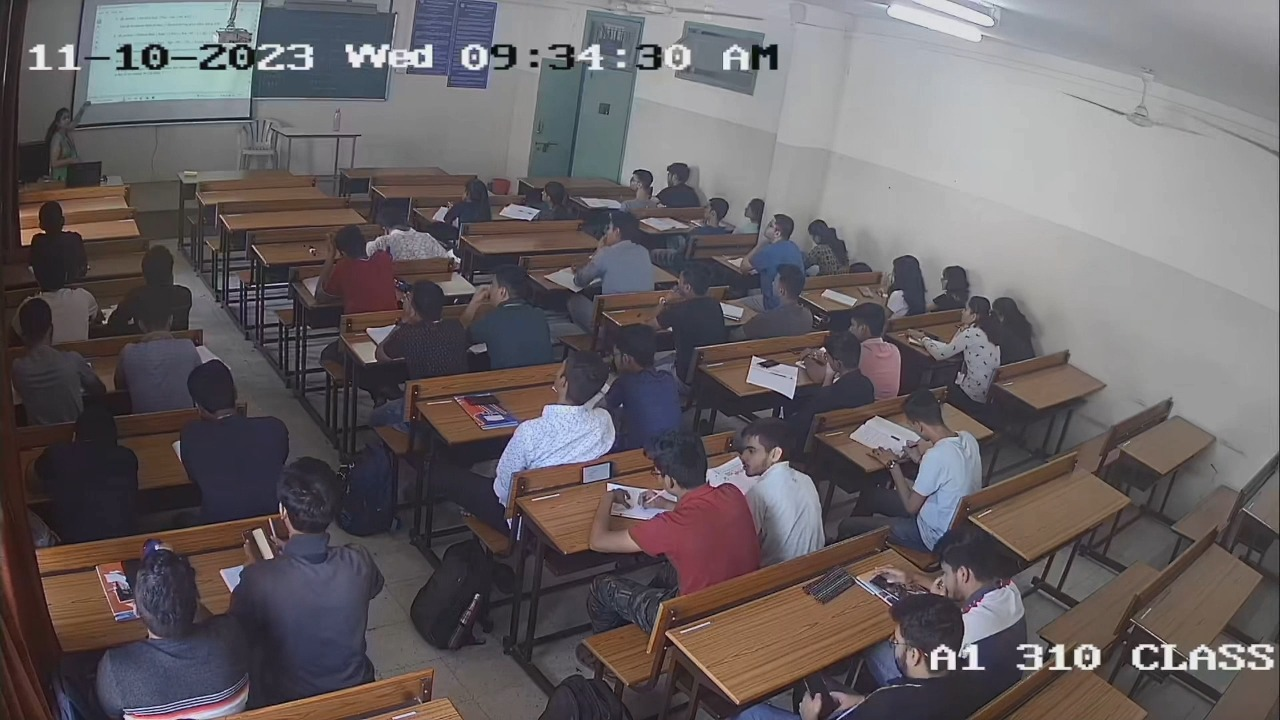cell-phones: (802, 669, 837, 720), (242, 525, 275, 561), (119, 558, 148, 598), (870, 571, 910, 599), (581, 460, 612, 485), (464, 394, 501, 406), (757, 358, 781, 369)
person: (229, 455, 391, 685), (98, 549, 248, 720), (616, 431, 752, 587), (830, 594, 977, 720), (924, 531, 1028, 677), (498, 347, 617, 471), (797, 330, 874, 417)
